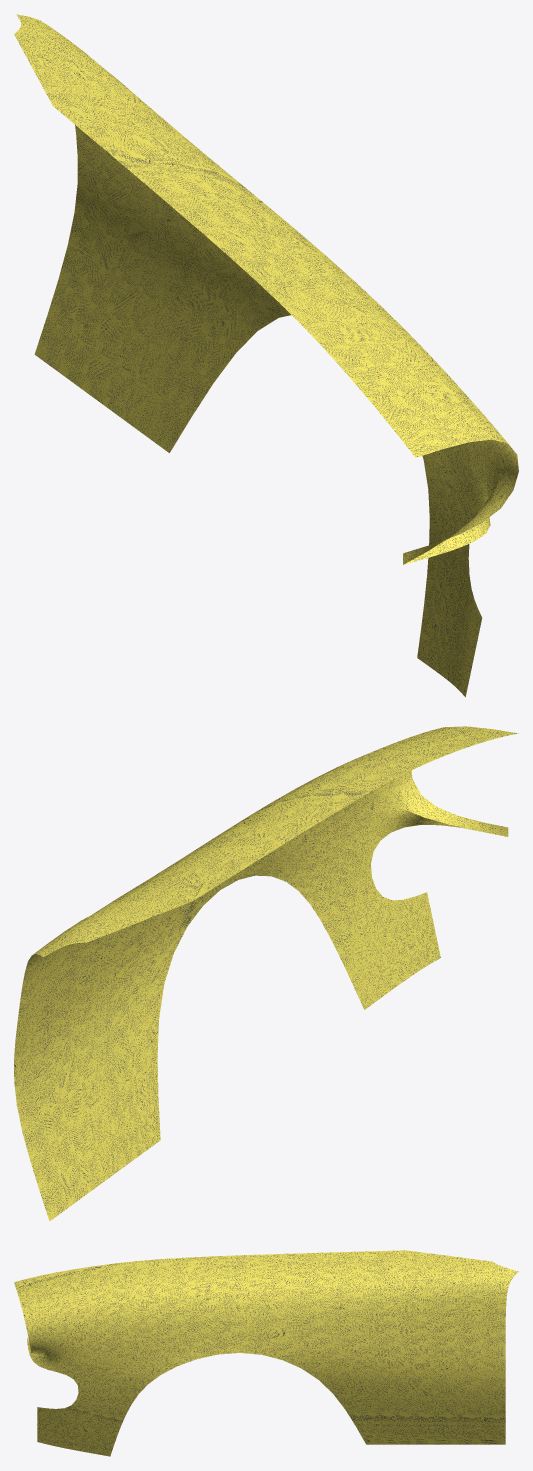
The model's file is Panel.fbx.
3 renders of one model, top to bottom at view 1: azimuth 30°, elevation 25°; view 2: azimuth 150°, elevation 25°; view 3: azimuth 270°, elevation 25°, orthographic. The views are drawn at different scales.
Parts seen in each view (by area): view 1: PanelFrontLeft.002; view 2: PanelFrontLeft.002; view 3: PanelFrontLeft.002.
Boxes of the visible parts, box(x1,y1,x2,y2) form: PanelFrontLeft.002: box(14, 14, 518, 697); PanelFrontLeft.002: box(14, 726, 518, 1221); PanelFrontLeft.002: box(14, 1250, 518, 1456).
Bounding box in the file's own units: 26 × 62 × 152.
